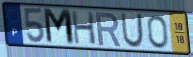5: (22, 7, 46, 45)
H: (70, 10, 98, 46)
M: (42, 7, 77, 47)
O: (146, 14, 170, 50)
R: (94, 10, 122, 48)
U: (119, 12, 145, 50)
